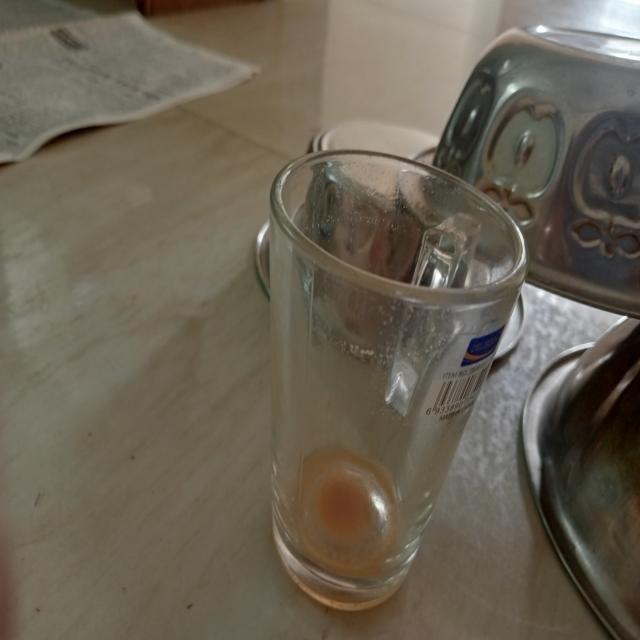glass-VX4N: (268, 147, 524, 617)
